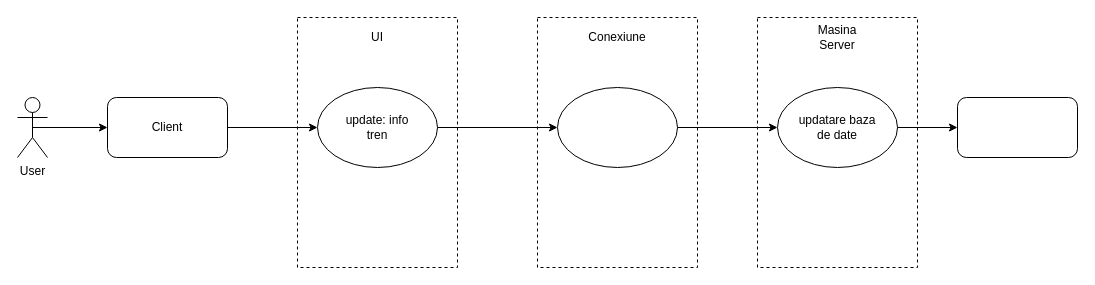
Some shapes in this 1095 by 285 pixel diagram are drawn without their labels. Each missing label, with the centre of its shape:
Server: the point at 1017,127
trimitere info: the point at 617,127
